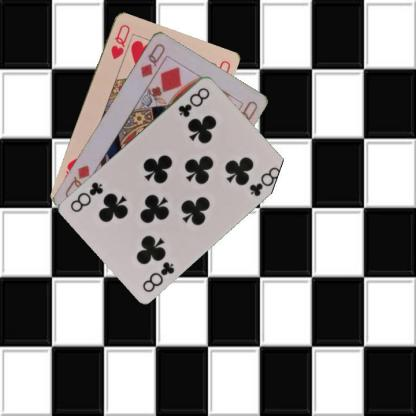8c: (140, 258, 176, 294), (175, 84, 211, 118)
Qd: (138, 40, 166, 78)
Qh: (108, 21, 131, 61)
